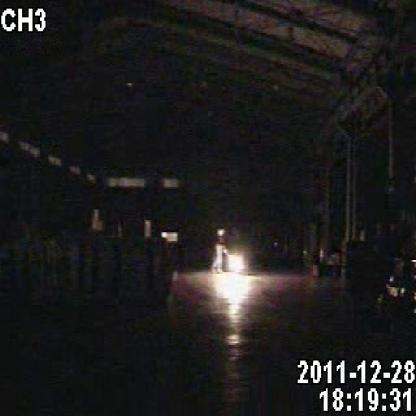fire: (207, 231, 267, 311)
